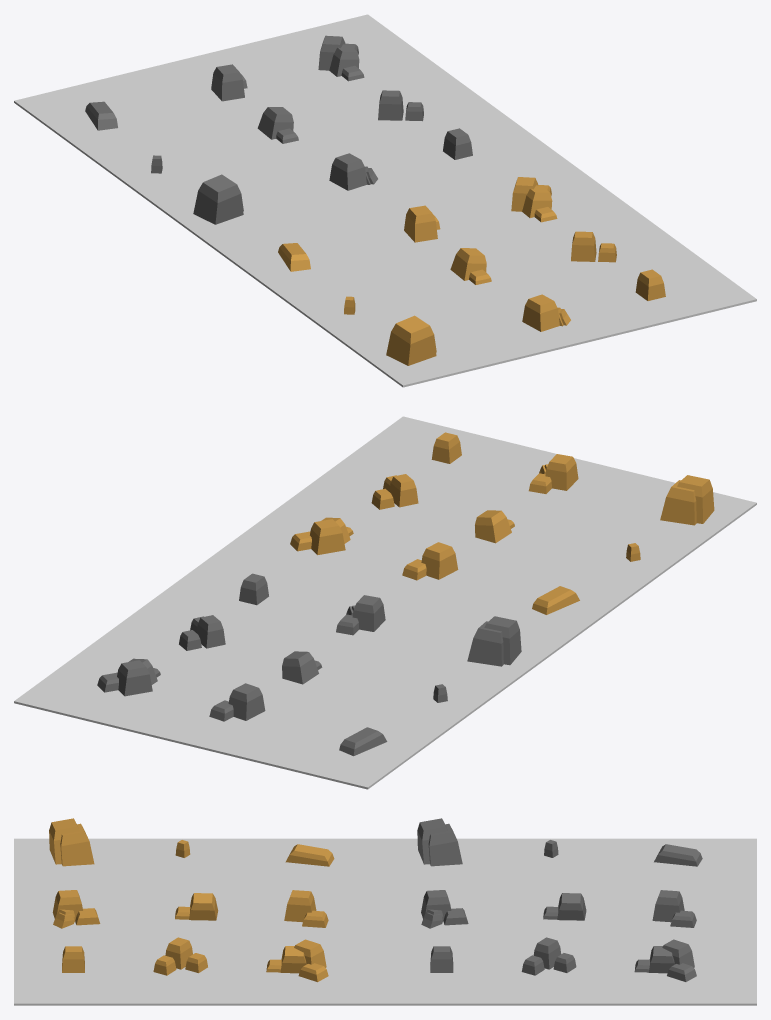
File: Steine.fbx
3 renders of one model, top to bottom at view 1: azimuth 30°, elevation 25°; view 2: azimuth 150°, elevation 25°; view 3: azimuth 270°, elevation 25°, orthographic. The views are drawn at different scales.
Visible parts, largest first — view 1: Cube.018, Cube.009, Cube.011, Cube.003, Cube.016, Cube.013, Cube.006, Cube.004, Cube.019, Cube.000, Cube.015, Cube.017 (+5 smaller); view 2: Cube.018, Cube.011, Cube.009, Cube.003, Cube.016, Cube.002, Cube.017, Cube.013, Cube.006, Cube.000, Cube.019, Cube.015 (+5 smaller); view 3: Cube.018, Cube.011, Cube.009, Cube.003, Cube.016, Cube.000, Cube.019, Cube.006, Cube.013, Cube.017, Cube.002, Cube.015 (+5 smaller).
Boxes of the visible parts, x1,y1,x2,y2 form: Cube.018: [14, 14, 756, 387]; Cube.009: [386, 315, 436, 365]; Cube.011: [193, 174, 243, 224]; Cube.003: [511, 177, 557, 222]; Cube.016: [318, 35, 364, 81]; Cube.013: [329, 153, 377, 190]; Cube.006: [522, 294, 570, 331]; Cube.004: [450, 248, 491, 284]; Cube.019: [378, 90, 423, 121]; Cube.000: [571, 231, 616, 262]; Cube.015: [257, 107, 298, 143]; Cube.017: [211, 64, 247, 101]; Cube.018: [14, 416, 756, 789]; Cube.011: [467, 616, 521, 666]; Cube.009: [660, 475, 714, 525]; Cube.003: [290, 517, 353, 555]; Cube.016: [97, 658, 160, 696]; Cube.002: [402, 542, 458, 580]; Cube.017: [209, 683, 265, 721]; Cube.013: [336, 595, 385, 635]; Cube.006: [528, 454, 578, 493]; Cube.000: [371, 474, 418, 509]; Cube.019: [179, 615, 225, 650]; Cube.015: [282, 651, 322, 684]; Cube.018: [14, 838, 756, 1005]; Cube.011: [417, 818, 462, 866]; Cube.009: [49, 818, 94, 866]; Cube.003: [266, 939, 328, 982]; Cube.016: [634, 939, 696, 981]; Cube.000: [153, 937, 207, 975]; Cube.019: [521, 937, 576, 975]; Cube.006: [52, 890, 100, 928]; Cube.013: [421, 890, 468, 928]; Cube.017: [652, 890, 696, 927]; Cube.002: [284, 890, 328, 927]; Cube.015: [543, 893, 586, 920].
Bounding box in the file's own units: 1565 × 195 × 2980.
